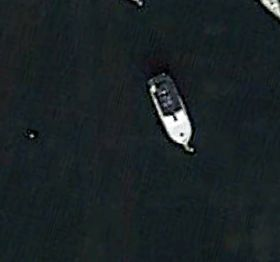boat: (146, 70, 194, 150)
